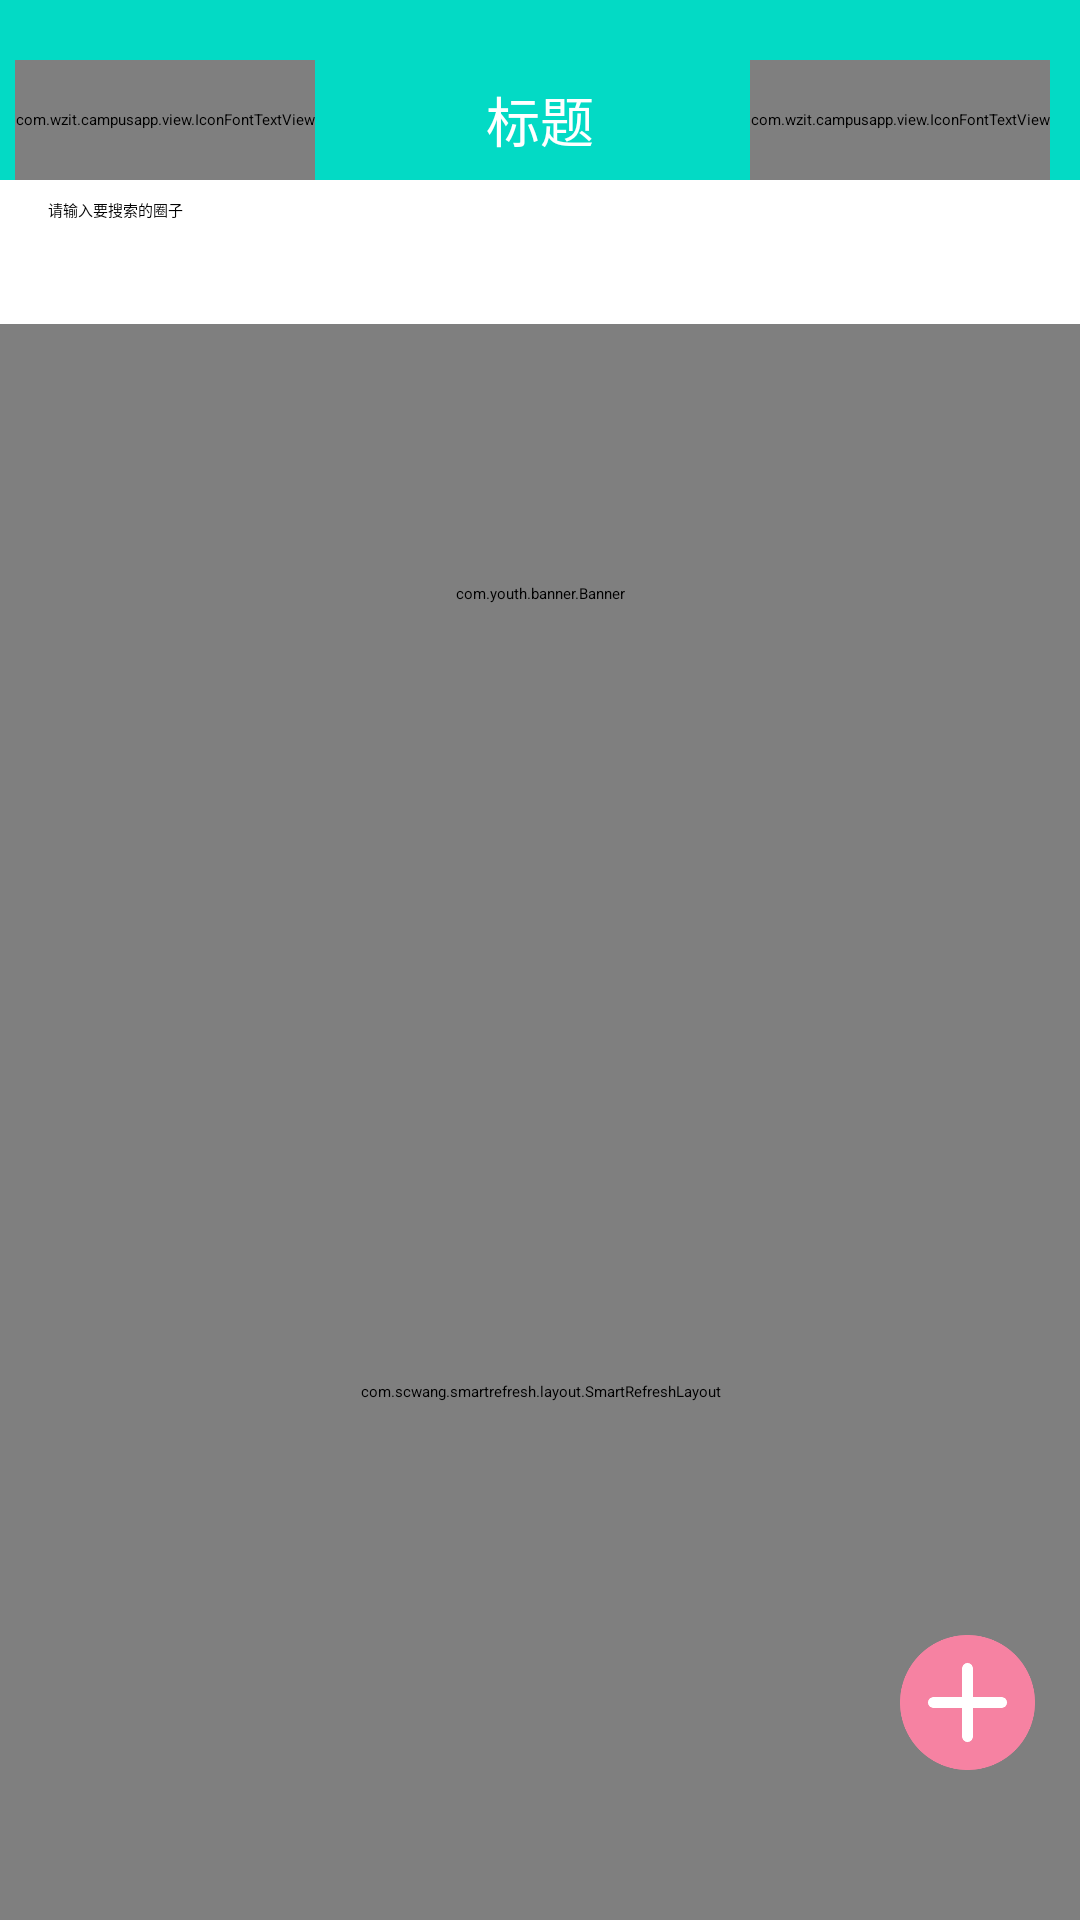

Screen size 1080px×1920px. Icon name, then its center in pixels as point (x, y):
fabu: point (967, 1702)
